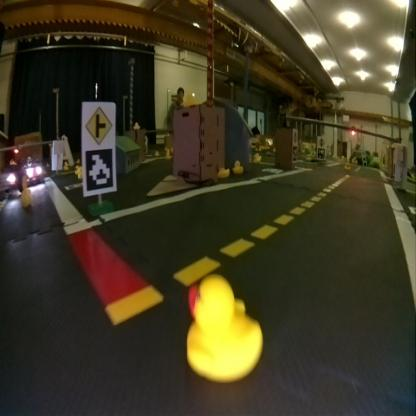Duckie: (186, 275, 260, 378), (20, 189, 31, 204), (218, 166, 229, 177), (233, 160, 243, 172), (344, 162, 350, 170), (133, 121, 139, 129), (62, 161, 68, 169), (253, 154, 259, 161), (74, 164, 79, 172), (155, 149, 160, 157), (78, 168, 82, 177), (165, 152, 170, 158)
Duckiebot: (0, 164, 21, 197), (21, 160, 43, 184)
Intersection sign: (85, 106, 113, 143)
QR code: (84, 149, 112, 191), (316, 147, 324, 158)
